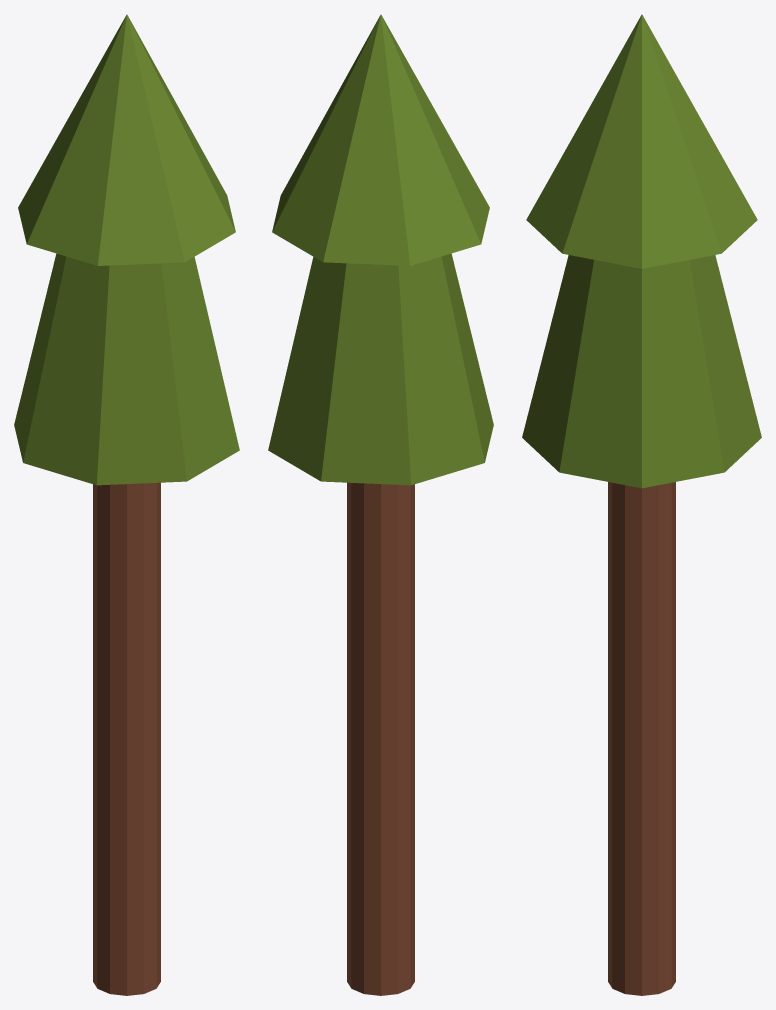
Rendered from Tree_21_autumn_mat.fbx.
3 renders of one model, left to right at view 1: azimuth 30°, elevation 25°; view 2: azimuth 150°, elevation 25°; view 3: azimuth 270°, elevation 25°, orthographic.
Visible parts, largest first — view 1: Tree_21_autumn_mat; view 2: Tree_21_autumn_mat; view 3: Tree_21_autumn_mat.
Boxes of the visible parts, x1,y1,x2,y2 form: Tree_21_autumn_mat: (14,14,239,995); Tree_21_autumn_mat: (268,14,493,995); Tree_21_autumn_mat: (522,14,761,995).
Bounding box in the file's own units: 3.12 × 13.87 × 3.12.
